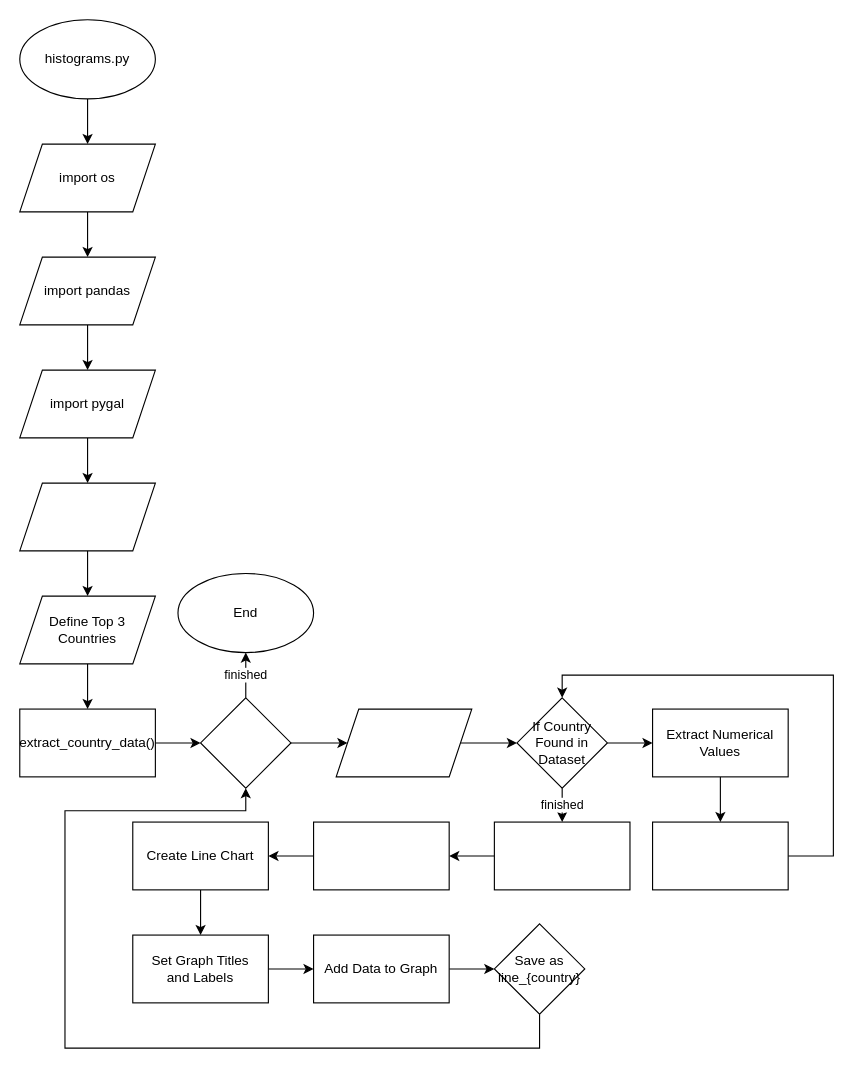
This 862x1077 diagram has some shape labels left out. Each missing label, with the box of its shape:
create_line_graph(): (312, 821, 449, 890)
Define CSVs: (19, 482, 155, 551)
Loop Through Years: (199, 697, 291, 788)
Read CSV: (335, 708, 472, 777)
Sort Data and Return Extracted Values: (493, 821, 630, 890)
Store Values Under Corresponding Years: (651, 821, 788, 890)
